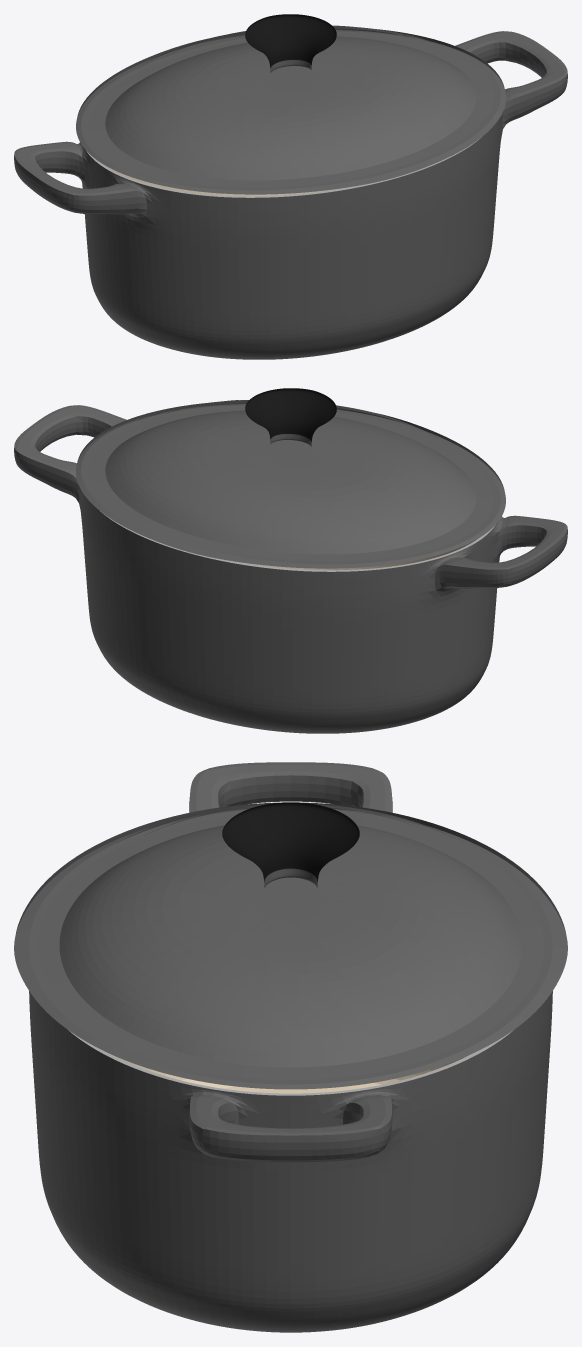
File: pot.glb
3 views of the same model, one above another, from view 1: azimuth 30°, elevation 25°; view 2: azimuth 150°, elevation 25°; view 3: azimuth 270°, elevation 25° (orthographic). The views are drawn at different scales.
Visible parts, largest first — view 1: world; view 2: world; view 3: world.
Boxes of the visible parts, x1=… form: world: x1=14, y1=14, x2=567, y2=359; world: x1=14, y1=388, x2=567, y2=733; world: x1=14, y1=762, x2=567, y2=1332.
Bounding box in the file's own units: 0.3074 × 0.1522 × 0.1925.
Materials: 1 (1 with a texture image).
